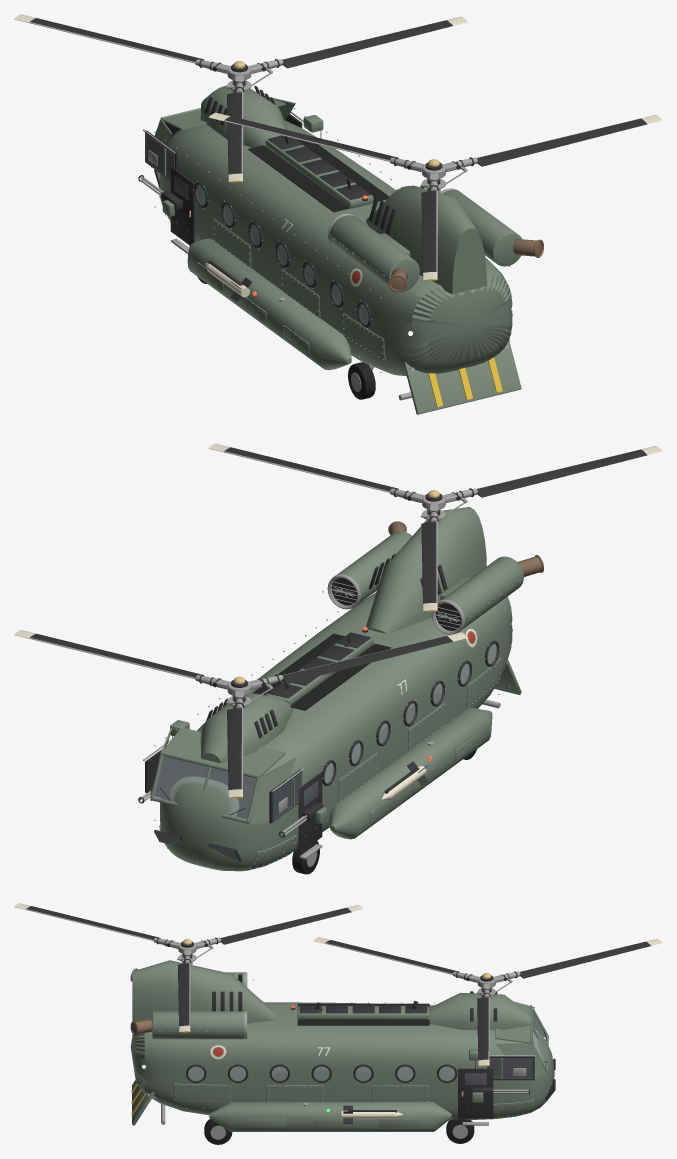
File: mule.glb
3 views of the same model, one above another, from view 1: azimuth 30°, elevation 25°; view 2: azimuth 150°, elevation 25°; view 3: azimuth 270°, elevation 25° (orthographic). The views are drawn at different scales.
Visible parts, largest first — view 1: body, rotor_upper, rotor; view 2: body, rotor, rotor_upper; view 3: body, rotor_upper, rotor.
Boxes of the visible parts, x1=… form: body: x1=138, y1=80, x2=543, y2=414; rotor_upper: x1=208, y1=112, x2=662, y2=280; rotor: x1=14, y1=14, x2=467, y2=182; body: x1=138, y1=507, x2=543, y2=874; rotor: x1=14, y1=630, x2=468, y2=798; rotor_upper: x1=208, y1=443, x2=662, y2=611; body: x1=130, y1=953, x2=555, y2=1144; rotor_upper: x1=14, y1=903, x2=363, y2=1032; rotor: x1=313, y1=937, x2=662, y2=1066.
Bounding box in the file's own units: 6.94 × 4.62 × 14.75.
